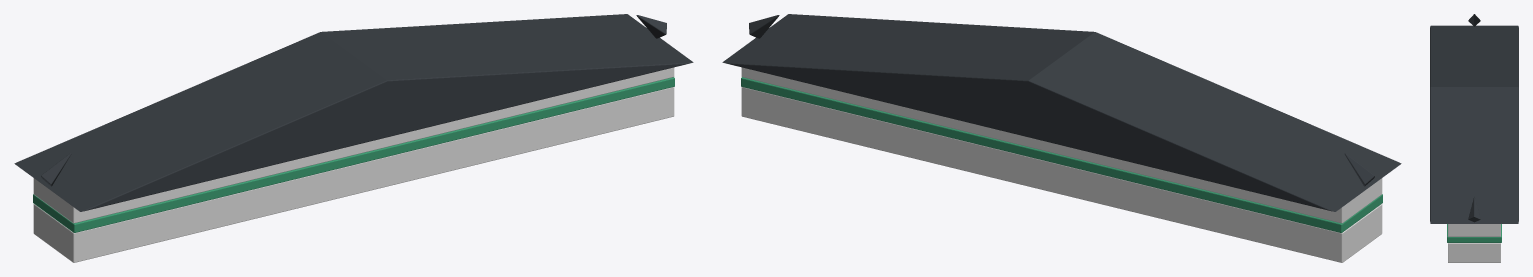
File: china_lintel_cn.fbx
3 renders of one model, left to right at view 1: azimuth 30°, elevation 25°; view 2: azimuth 150°, elevation 25°; view 3: azimuth 270°, elevation 25°, orthographic. The views are drawn at different scales.
Visible parts, largest first — view 1: china_lintel_cn; view 2: china_lintel_cn; view 3: china_lintel_cn.
Part boxes in pixels (bbox=[...]): china_lintel_cn: bbox=[14, 14, 693, 262]; china_lintel_cn: bbox=[722, 14, 1401, 262]; china_lintel_cn: bbox=[1430, 14, 1518, 262].
Size of the model in its own units: 8.62 by 1.57 by 1.6.
